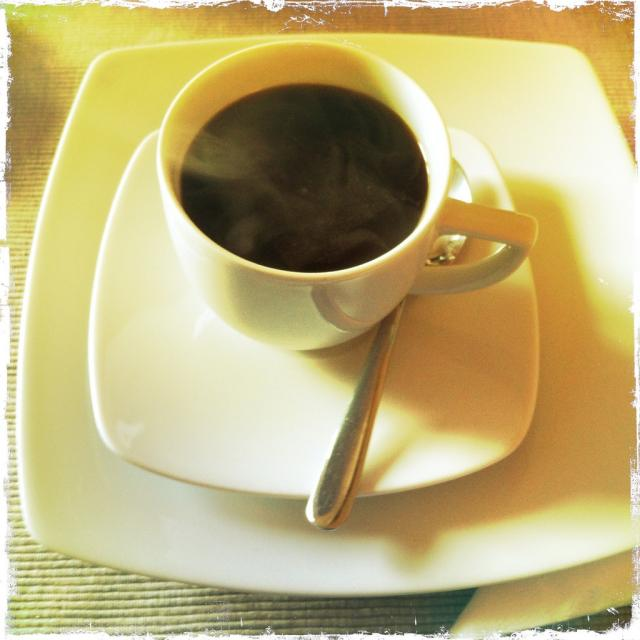Tea: (181, 83, 430, 273)
